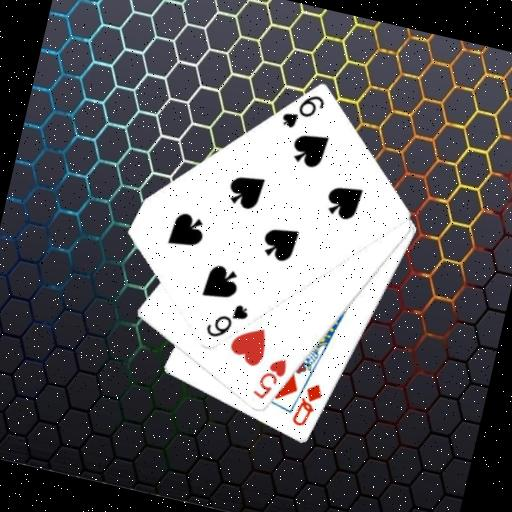5H: (248, 351, 291, 406)
6S: (277, 86, 329, 137), (201, 296, 252, 346)
QD: (288, 377, 327, 432)
